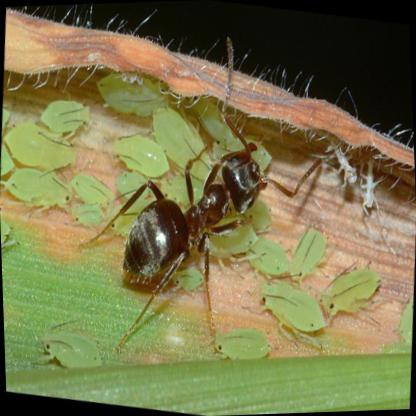schizaphis graminum: (152, 109, 208, 182), (321, 267, 382, 323), (4, 124, 78, 168), (262, 285, 327, 333), (114, 133, 170, 177), (210, 327, 271, 360), (37, 101, 89, 134)
